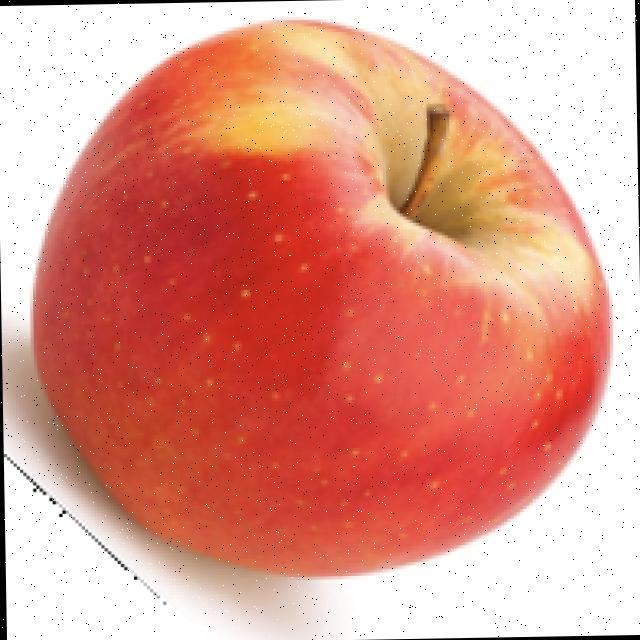apple: (3, 13, 618, 635)
